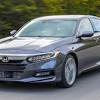Honda: (1, 14, 100, 88)
